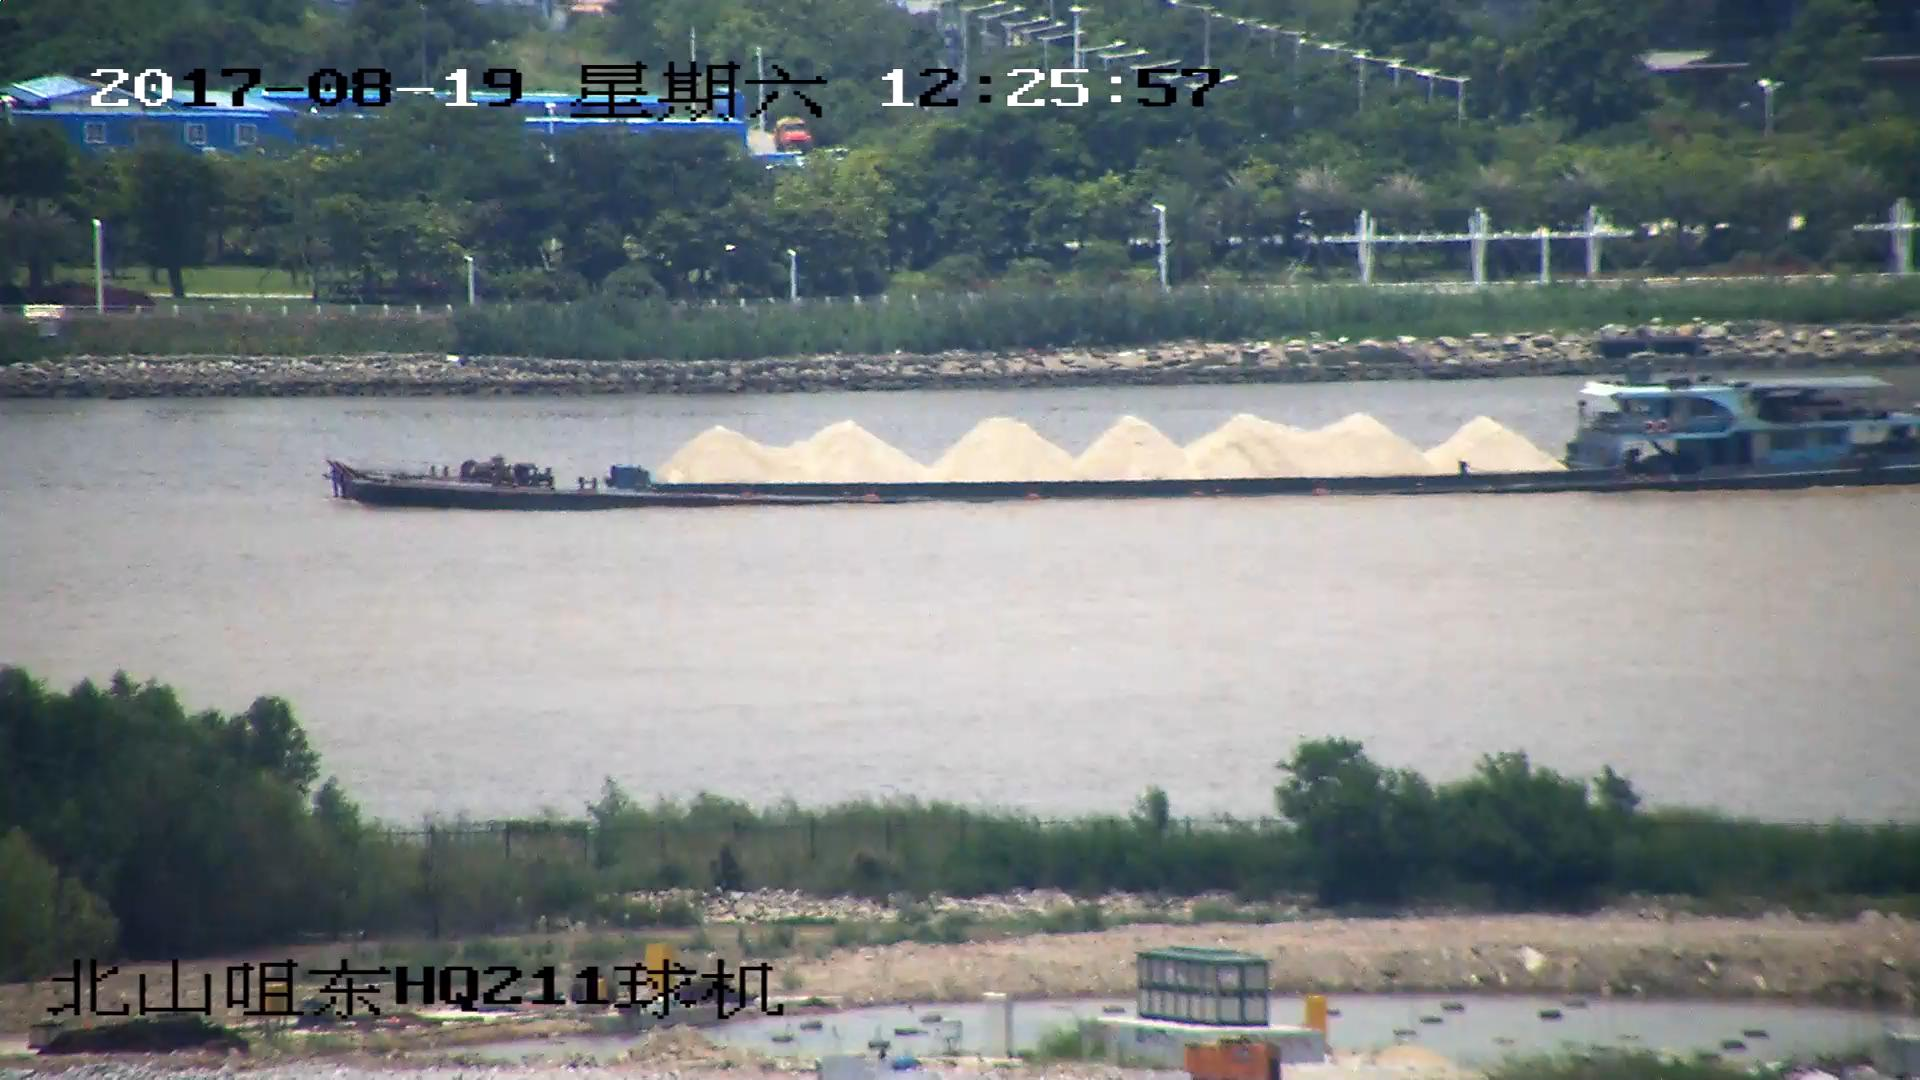ore carrier: (327, 365, 1920, 511)
